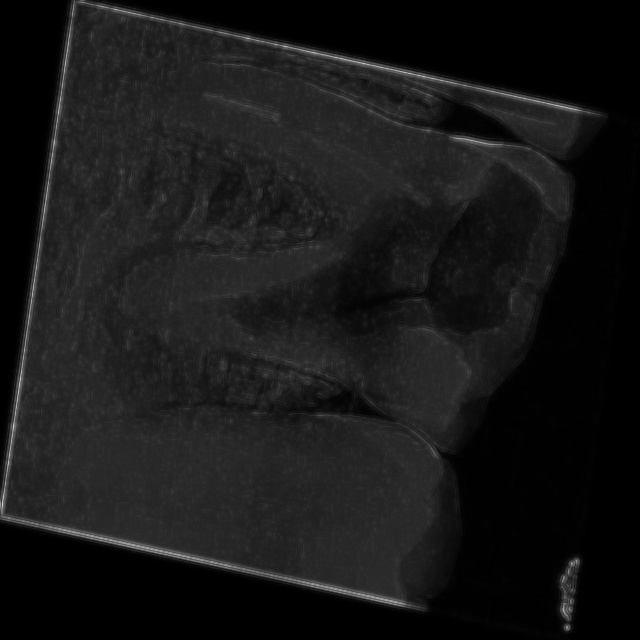Class 2- incomplete endodontic treatment: (67, 32, 604, 498)
